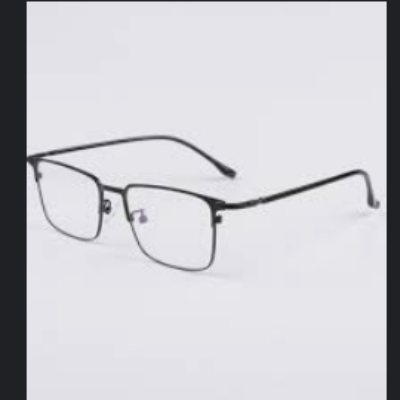glasses: (28, 128, 388, 278)
